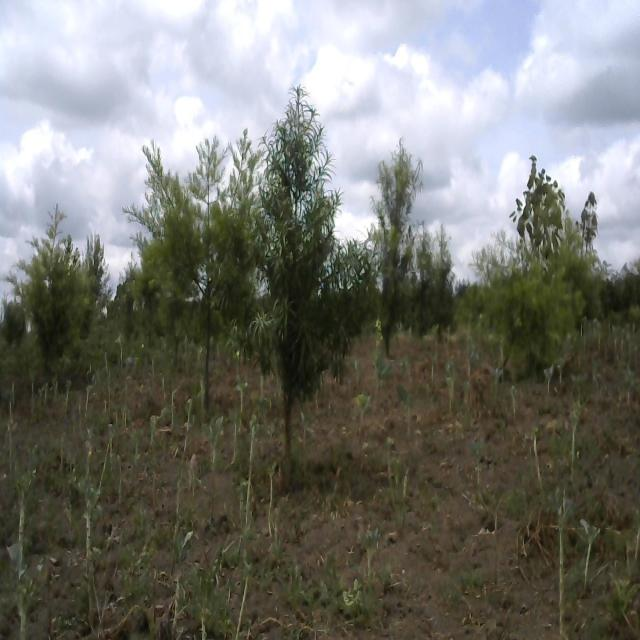Podocarpus falcatus: (251, 87, 375, 468), (118, 133, 260, 409), (458, 200, 602, 376), (19, 207, 91, 376), (372, 140, 422, 354)
other: (505, 140, 572, 256), (582, 188, 602, 249)
